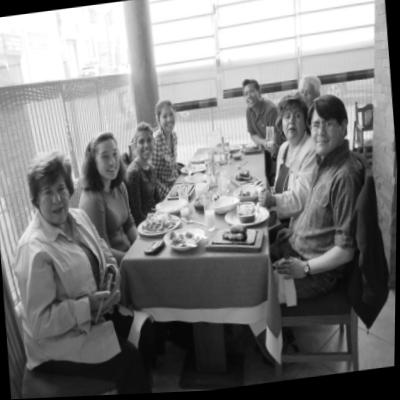happy: (38, 169, 74, 227), (93, 138, 120, 180), (135, 131, 155, 161), (242, 84, 260, 110), (160, 107, 176, 132)
netural: (307, 112, 342, 157)
surprise: (281, 107, 305, 142)
